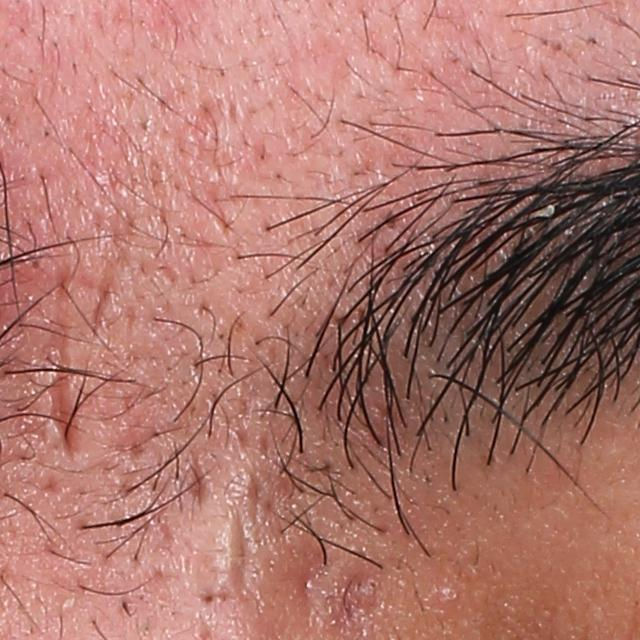atrophic_scar: (42, 268, 78, 460), (245, 464, 308, 536), (92, 239, 124, 351), (330, 564, 378, 633), (294, 541, 332, 623), (225, 503, 252, 617), (185, 458, 210, 513)
